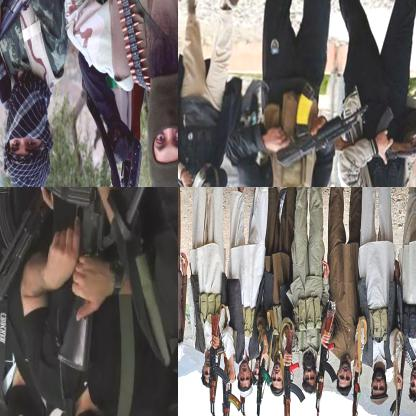rifle: (44, 187, 108, 372), (274, 81, 371, 167), (0, 187, 58, 308), (90, 83, 150, 186), (0, 0, 69, 89), (331, 107, 415, 164), (310, 315, 339, 415), (283, 326, 309, 415), (207, 315, 229, 415), (386, 347, 412, 415), (254, 344, 273, 415), (222, 353, 243, 415), (348, 363, 367, 415), (178, 167, 227, 186)
